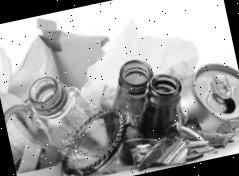glass: (104, 38, 239, 175), (47, 103, 143, 176)
